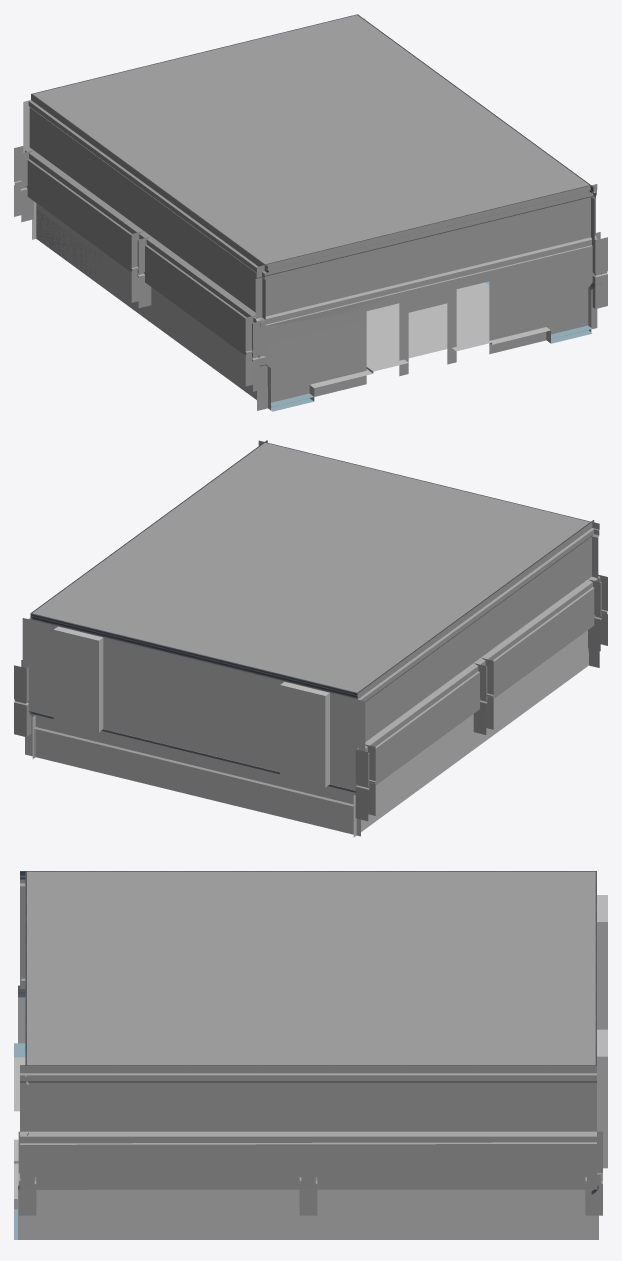
The model's file is SM_Sword_room_01.fbx.
3 views of the same model, one above another, from view 1: azimuth 30°, elevation 25°; view 2: azimuth 150°, elevation 25°; view 3: azimuth 270°, elevation 25° (orthographic). The views are drawn at different scales.
Parts seen in each view (by area): view 1: SM_SwordRoom_Roof, SM_SwordRoom_Wall_05, SM_SwordRoom_Wall_03, SM_SwordRoom_WallBase_03, SM_SwordRoom_Floor, SM_SwordRoom_WallPillar_11, SM_SwordRoom_WallPillar_10, SM_SwordRoom_WallPillar_12, SM_SwordRoom_WallPillar_08, SM_SwordRoom_Platform; view 2: SM_SwordRoom_Roof, SM_SwordRoom_Wall_01, SM_SwordRoom_Wall_03, SM_SwordRoom_WallBase_01, SM_SwordRoom_WallBase_03, SM_SwordRoom_WallTrim_01, SM_SwordRoom_WallPillar_12, SM_SwordRoom_WallPillar_10, SM_SwordRoom_Platform, SM_SwordRoom_WallPillar_11, SM_SwordRoom_WallPillar_09, SM_SwordRoom_Wall_05; view 3: SM_SwordRoom_Roof, SM_SwordRoom_Wall_02, SM_SwordRoom_WallBase_02, SM_SwordRoom_Wall_01, SM_SwordRoom_WallPillar_09, SM_SwordRoom_Floor, SM_SwordRoom_WallPillar_08, SM_SwordRoom_WallTrim_03, SM_SwordRoom_WallTrim_02, SM_SwordRoom_WallPillar_07.
Part boxes in pixels (box(x1,y1,x2,y2)): SM_SwordRoom_Roof: box(33, 15, 589, 264); SM_SwordRoom_Wall_05: box(255, 184, 597, 410); SM_SwordRoom_Wall_03: box(25, 94, 266, 360); SM_SwordRoom_WallBase_03: box(36, 203, 270, 410); SM_SwordRoom_Floor: box(309, 282, 550, 401); SM_SwordRoom_WallPillar_11: box(245, 315, 265, 391); SM_SwordRoom_WallPillar_10: box(131, 231, 151, 307); SM_SwordRoom_WallPillar_12: box(14, 146, 33, 222); SM_SwordRoom_WallPillar_08: box(591, 232, 607, 308); SM_SwordRoom_Platform: box(36, 209, 100, 283); SM_SwordRoom_Roof: box(32, 443, 589, 692); SM_SwordRoom_Wall_01: box(22, 618, 365, 790); SM_SwordRoom_Wall_03: box(357, 520, 601, 790); SM_SwordRoom_WallBase_01: box(25, 711, 360, 836); SM_SwordRoom_WallBase_03: box(353, 630, 588, 837); SM_SwordRoom_WallTrim_01: box(30, 613, 357, 699); SM_SwordRoom_WallPillar_12: box(355, 744, 375, 821); SM_SwordRoom_WallPillar_10: box(473, 658, 493, 734); SM_SwordRoom_Platform: box(33, 716, 355, 824); SM_SwordRoom_WallPillar_11: box(588, 574, 607, 651); SM_SwordRoom_WallPillar_09: box(14, 660, 31, 737); SM_SwordRoom_Wall_05: box(258, 440, 599, 667); SM_SwordRoom_Roof: box(27, 871, 595, 1065); SM_SwordRoom_Wall_02: box(20, 1066, 596, 1189); SM_SwordRoom_WallBase_02: box(18, 1185, 598, 1239); SM_SwordRoom_Wall_01: box(597, 895, 607, 1168); SM_SwordRoom_WallPillar_09: box(585, 1131, 602, 1215); SM_SwordRoom_Floor: box(14, 1057, 25, 1209); SM_SwordRoom_WallPillar_08: box(18, 1131, 36, 1215); SM_SwordRoom_WallTrim_03: box(20, 871, 595, 879); SM_SwordRoom_WallTrim_02: box(20, 1065, 596, 1065); SM_SwordRoom_WallPillar_07: box(299, 1177, 317, 1215).
Bounding box in the file's own units: 27.66 × 10.75 × 32.85.
